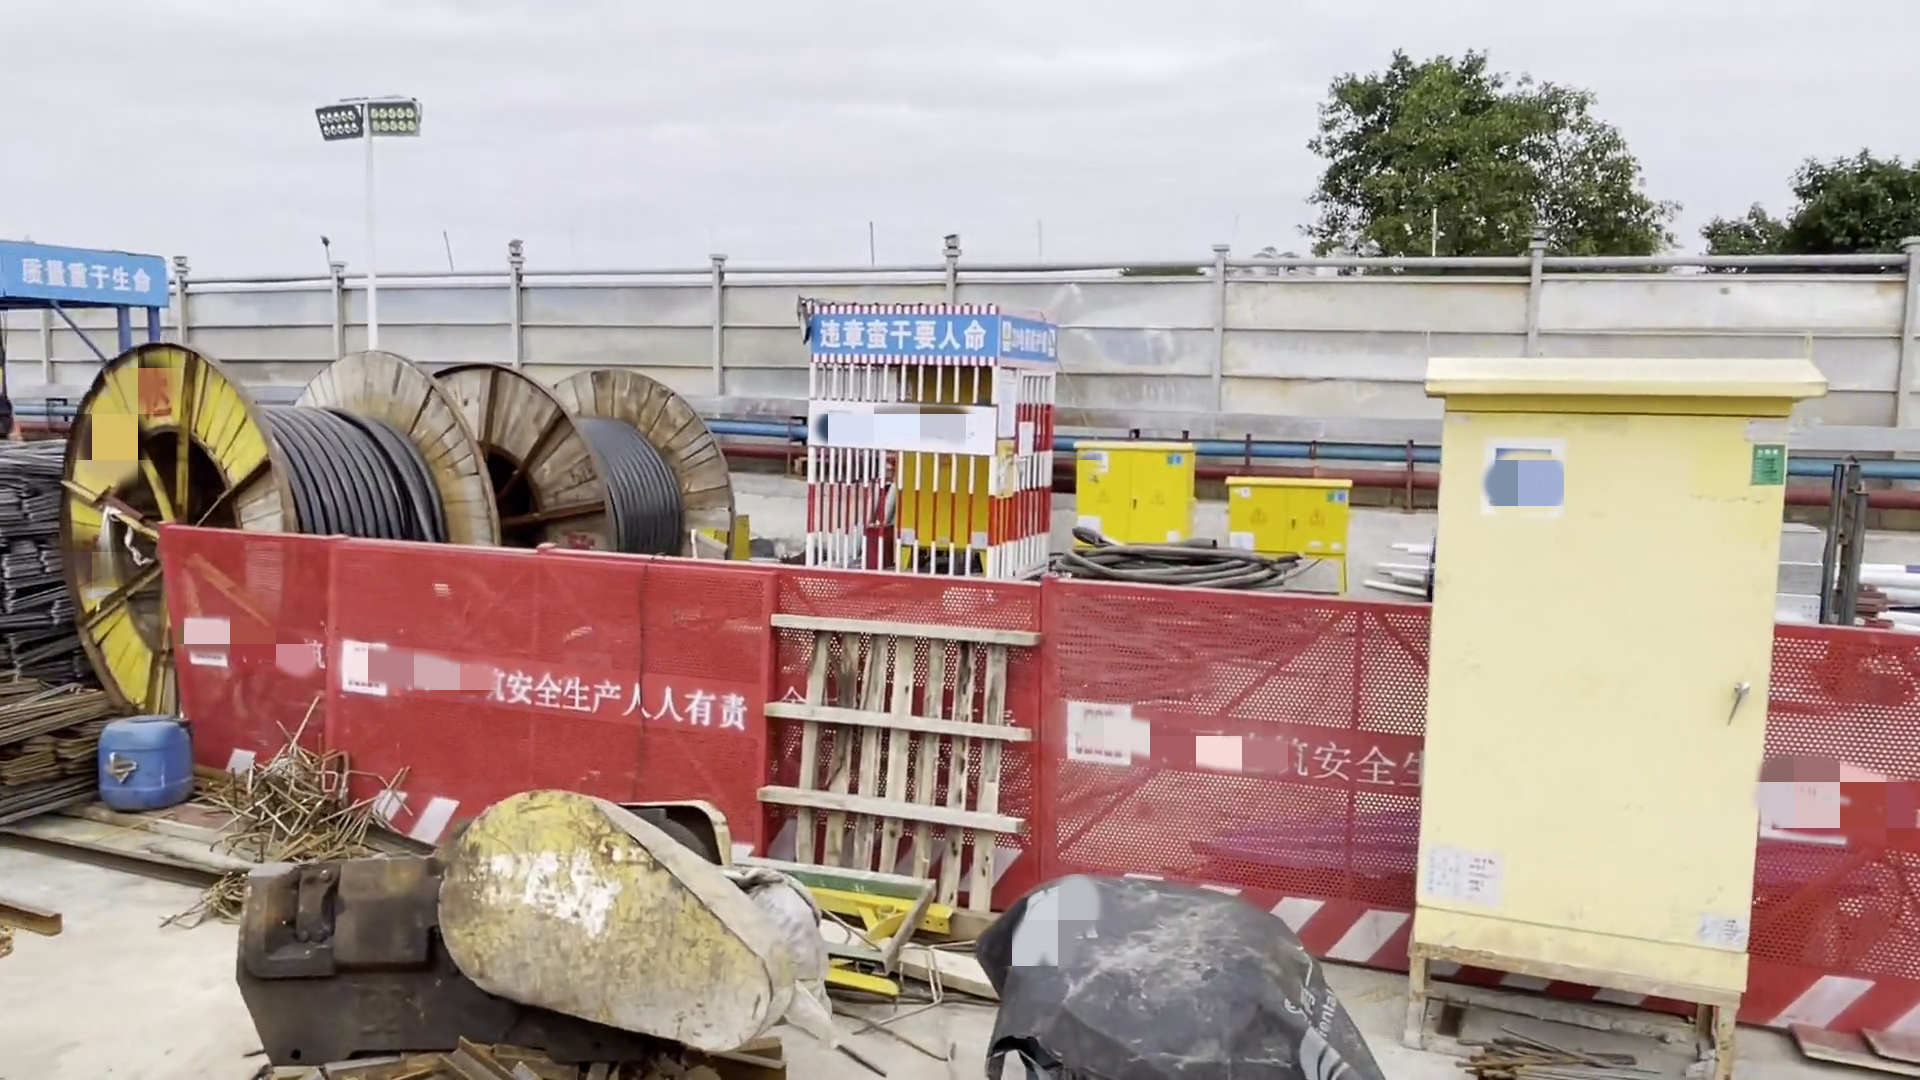ebox: (1418, 363, 1787, 1080), (894, 363, 982, 546), (1222, 472, 1349, 585), (1075, 440, 1191, 541)
fence: (785, 559, 1414, 960), (146, 522, 782, 849), (1764, 633, 1920, 1007)
slogan: (1, 237, 170, 305), (818, 305, 986, 364)
